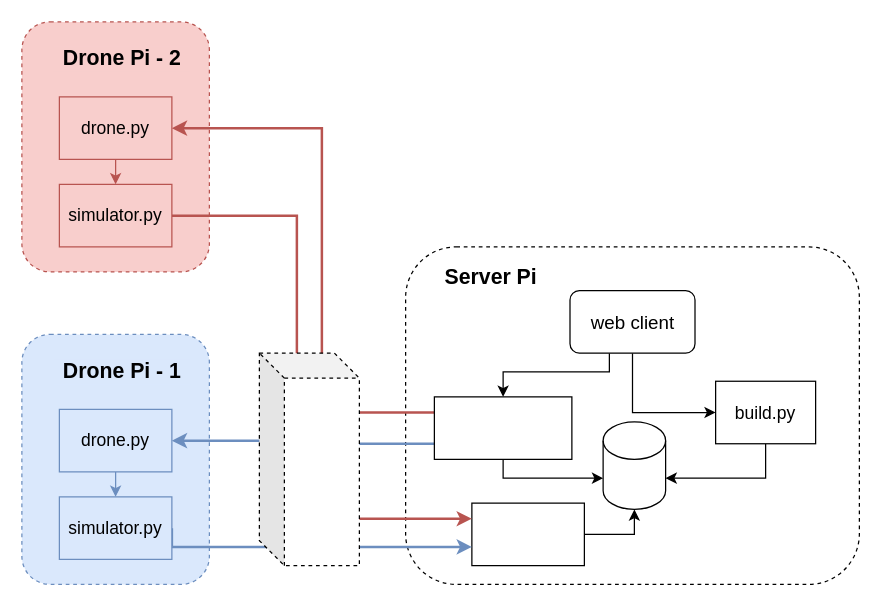
The diagram is 881 pixels wide and 606 high, and some of its shapes have lost their labels. The shapes that lost their labels are listed below. From the top down, each one's box as (x1, y1, x2, y2) in pixels, then its label:
(433, 396, 572, 459): route_planner.py
(258, 352, 359, 566): Switch
(602, 421, 666, 509): redis
(471, 502, 584, 566): database.py
